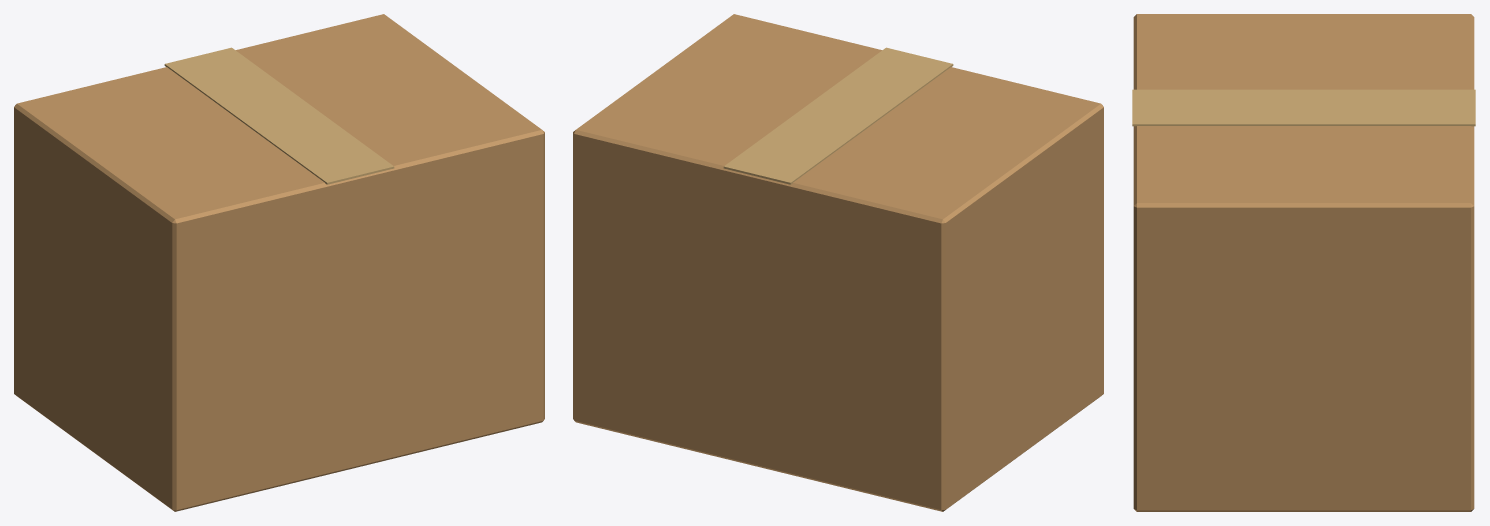
The model's file is sm_box_l_closed.glb.
3 views of the same model, side by side, from view 1: azimuth 30°, elevation 25°; view 2: azimuth 150°, elevation 25°; view 3: azimuth 270°, elevation 25° (orthographic). The views are drawn at different scales.
Parts seen in each view (by area): view 1: box_l_closed, box_l_closed_tape; view 2: box_l_closed, box_l_closed_tape; view 3: box_l_closed, box_l_closed_tape.
Boxes of the visible parts, x1,y1,x2,y2 form: box_l_closed: [14, 14, 544, 511]; box_l_closed_tape: [164, 47, 394, 184]; box_l_closed: [573, 14, 1103, 511]; box_l_closed_tape: [723, 47, 953, 184]; box_l_closed: [1133, 14, 1474, 511]; box_l_closed_tape: [1132, 89, 1475, 126].
Size of what is drawn, in the model's own units: 0.8 by 0.603 by 0.604.
